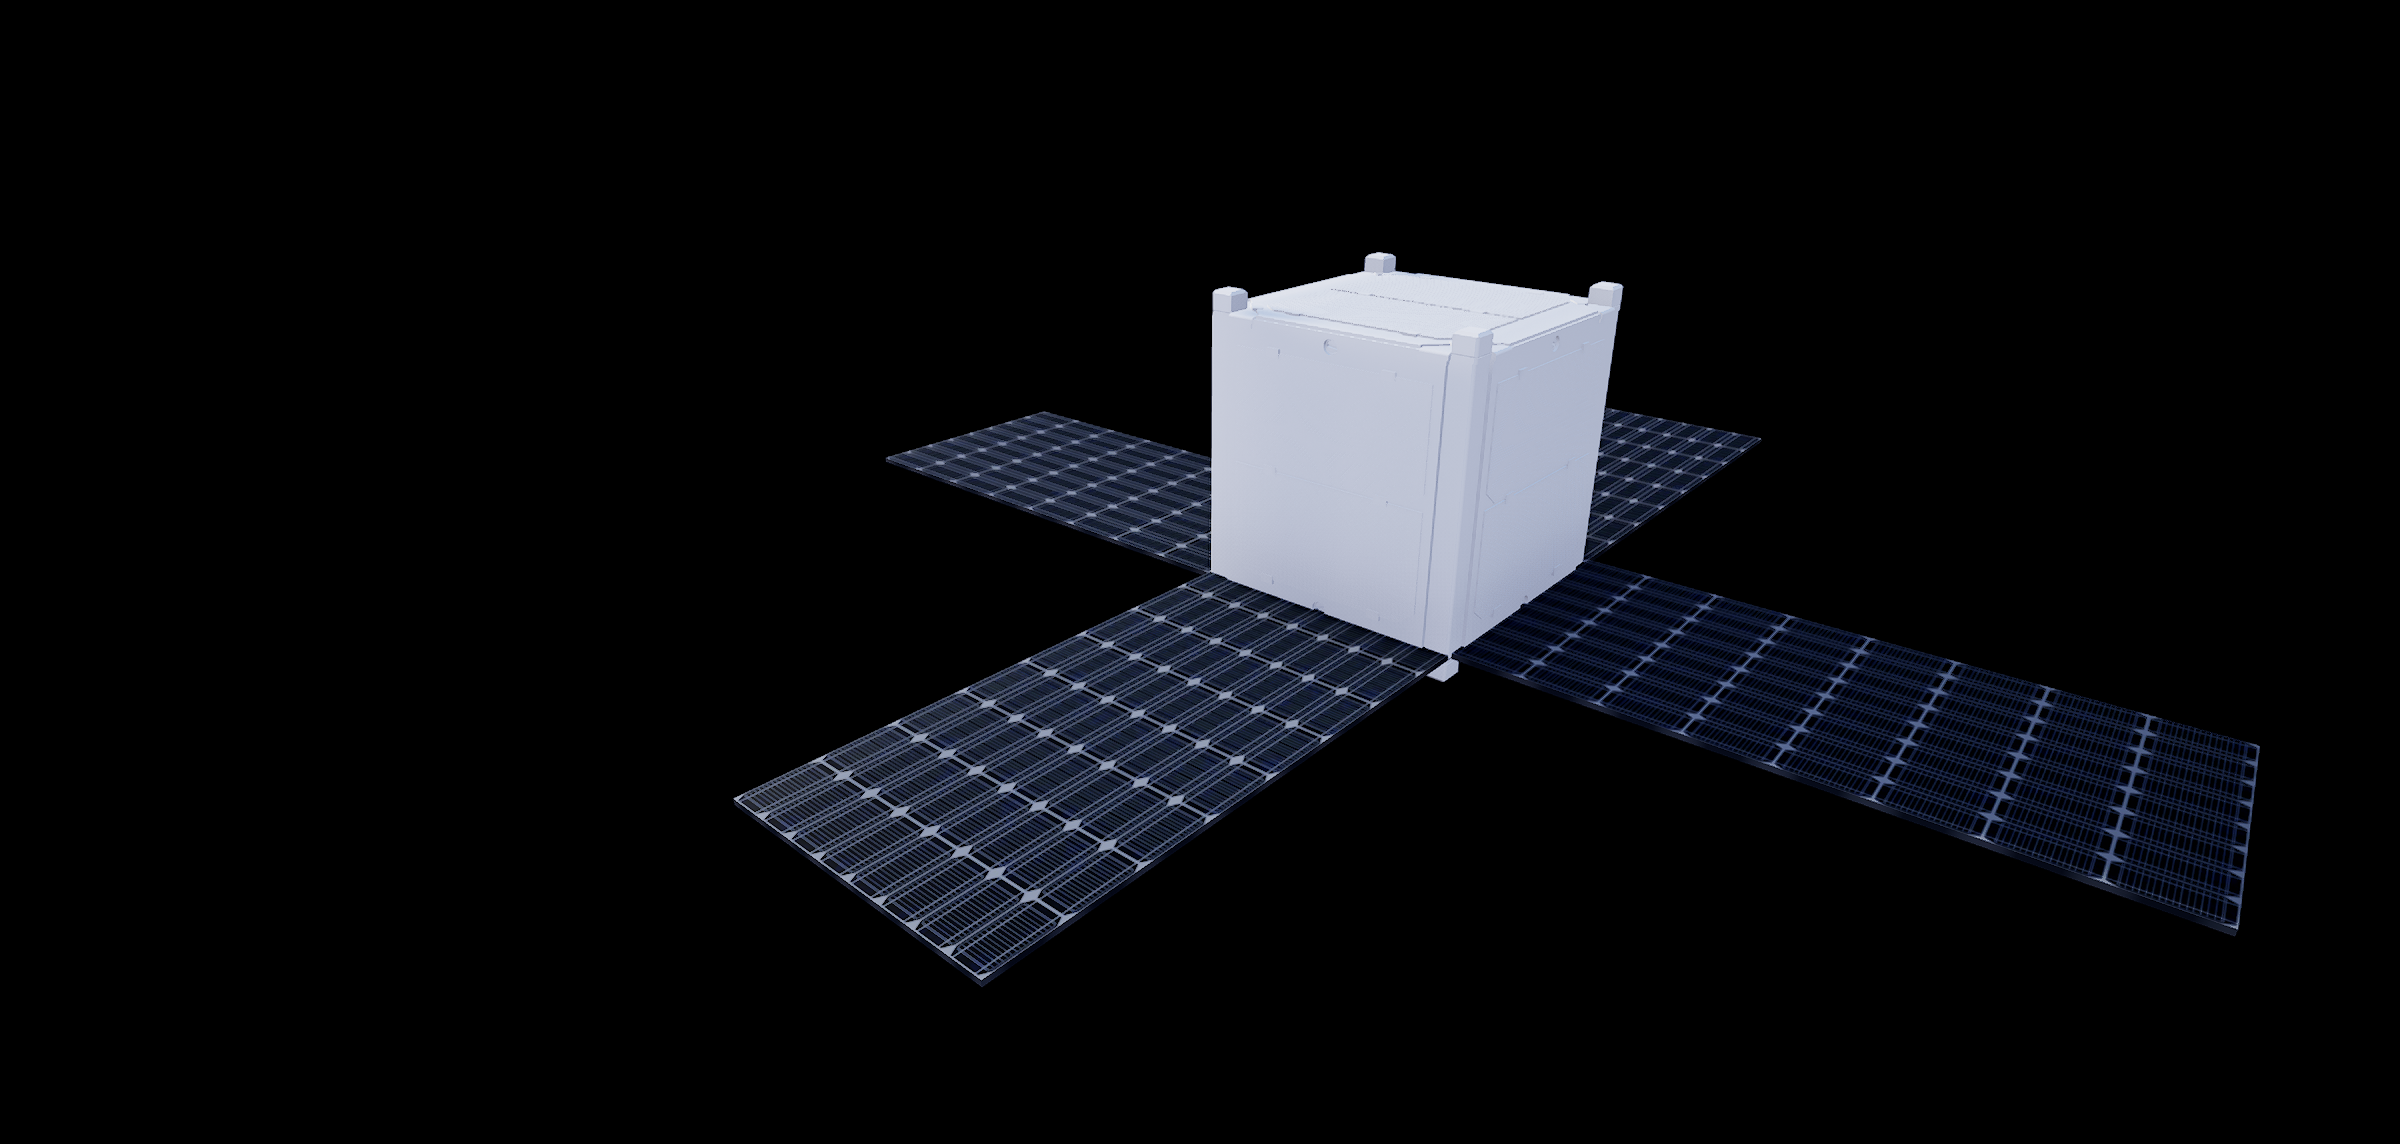satellite: (690, 211, 2284, 1017)
